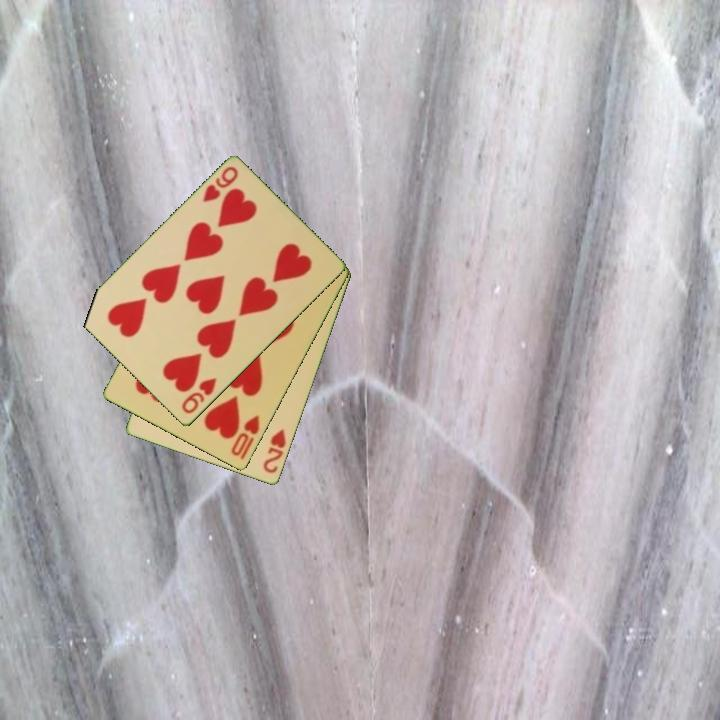10h: (228, 412, 263, 463)
2h: (260, 426, 289, 476)
9h: (178, 374, 220, 417), (199, 163, 241, 206)
